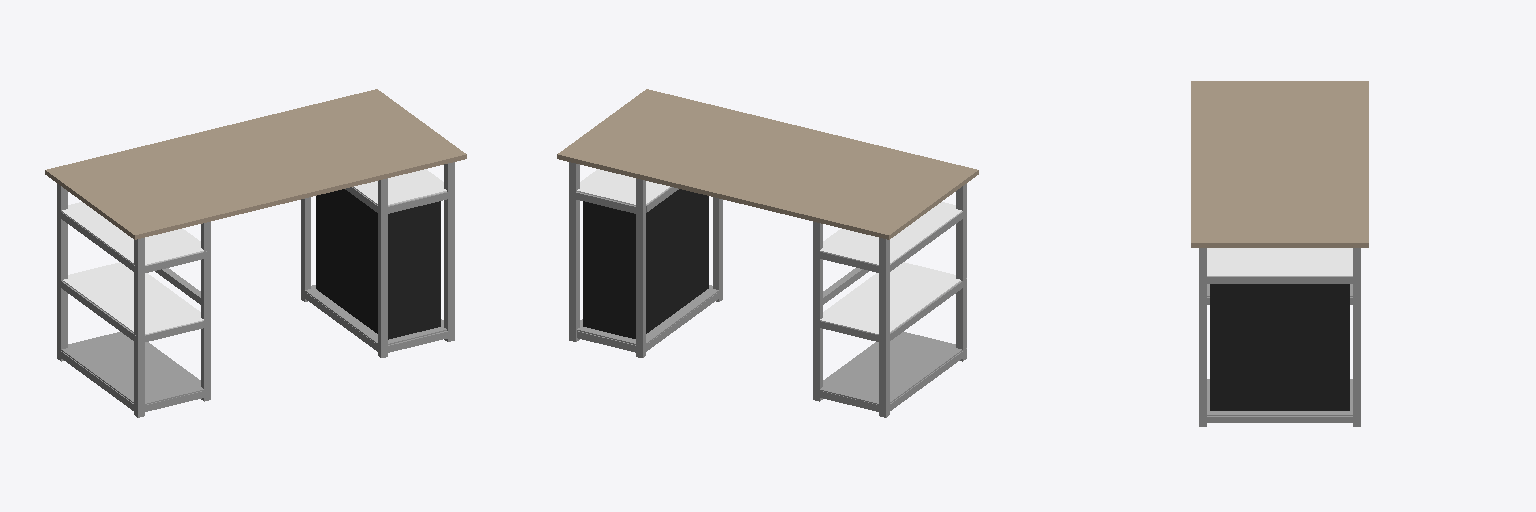
File: table.obj
The picture shows the model from 3 angles: view 1: azimuth 30°, elevation 25°; view 2: azimuth 150°, elevation 25°; view 3: azimuth 270°, elevation 25°; orthographic projection.
Visible parts, largest first — view 1: Box13, Box14, Box10, Box12, Box11, Box4, Box9, Box6, Box7, Box15, Box, Box8 (+6 smaller); view 2: Box13, Box14, Box10, Box12, Box11, Box7, Box5, Box3, Box9, Box2, Box6, Box8 (+6 smaller); view 3: Box13, Box14, Box9, Box4, Box5, Box1, Box16, Box8.
Boxes of the visible parts, x1,y1,x2,y2 form: Box13: [45, 89, 466, 239]; Box14: [316, 189, 440, 339]; Box10: [61, 332, 203, 404]; Box12: [63, 262, 203, 334]; Box11: [61, 202, 203, 265]; Box4: [444, 162, 454, 341]; Box9: [353, 169, 446, 205]; Box6: [134, 238, 144, 417]; Box7: [57, 184, 67, 361]; Box15: [378, 178, 387, 357]; Box: [201, 222, 210, 401]; Box8: [305, 285, 446, 344]; Box13: [557, 89, 978, 239]; Box14: [583, 189, 708, 338]; Box10: [820, 332, 962, 404]; Box12: [820, 262, 960, 334]; Box11: [820, 202, 962, 265]; Box7: [879, 238, 889, 417]; Box5: [569, 162, 579, 341]; Box3: [636, 178, 645, 357]; Box9: [577, 169, 670, 205]; Box2: [813, 222, 822, 401]; Box6: [956, 184, 966, 361]; Box8: [577, 285, 718, 344]; Box13: [1191, 81, 1368, 247]; Box14: [1210, 284, 1349, 410]; Box9: [1207, 248, 1352, 276]; Box4: [1199, 248, 1206, 426]; Box5: [1353, 248, 1360, 426]; Box1: [1207, 277, 1352, 283]; Box16: [1207, 416, 1352, 422]; Box8: [1207, 379, 1352, 415].
Size of the model in its own units: 1.5 by 0.81 by 0.7.